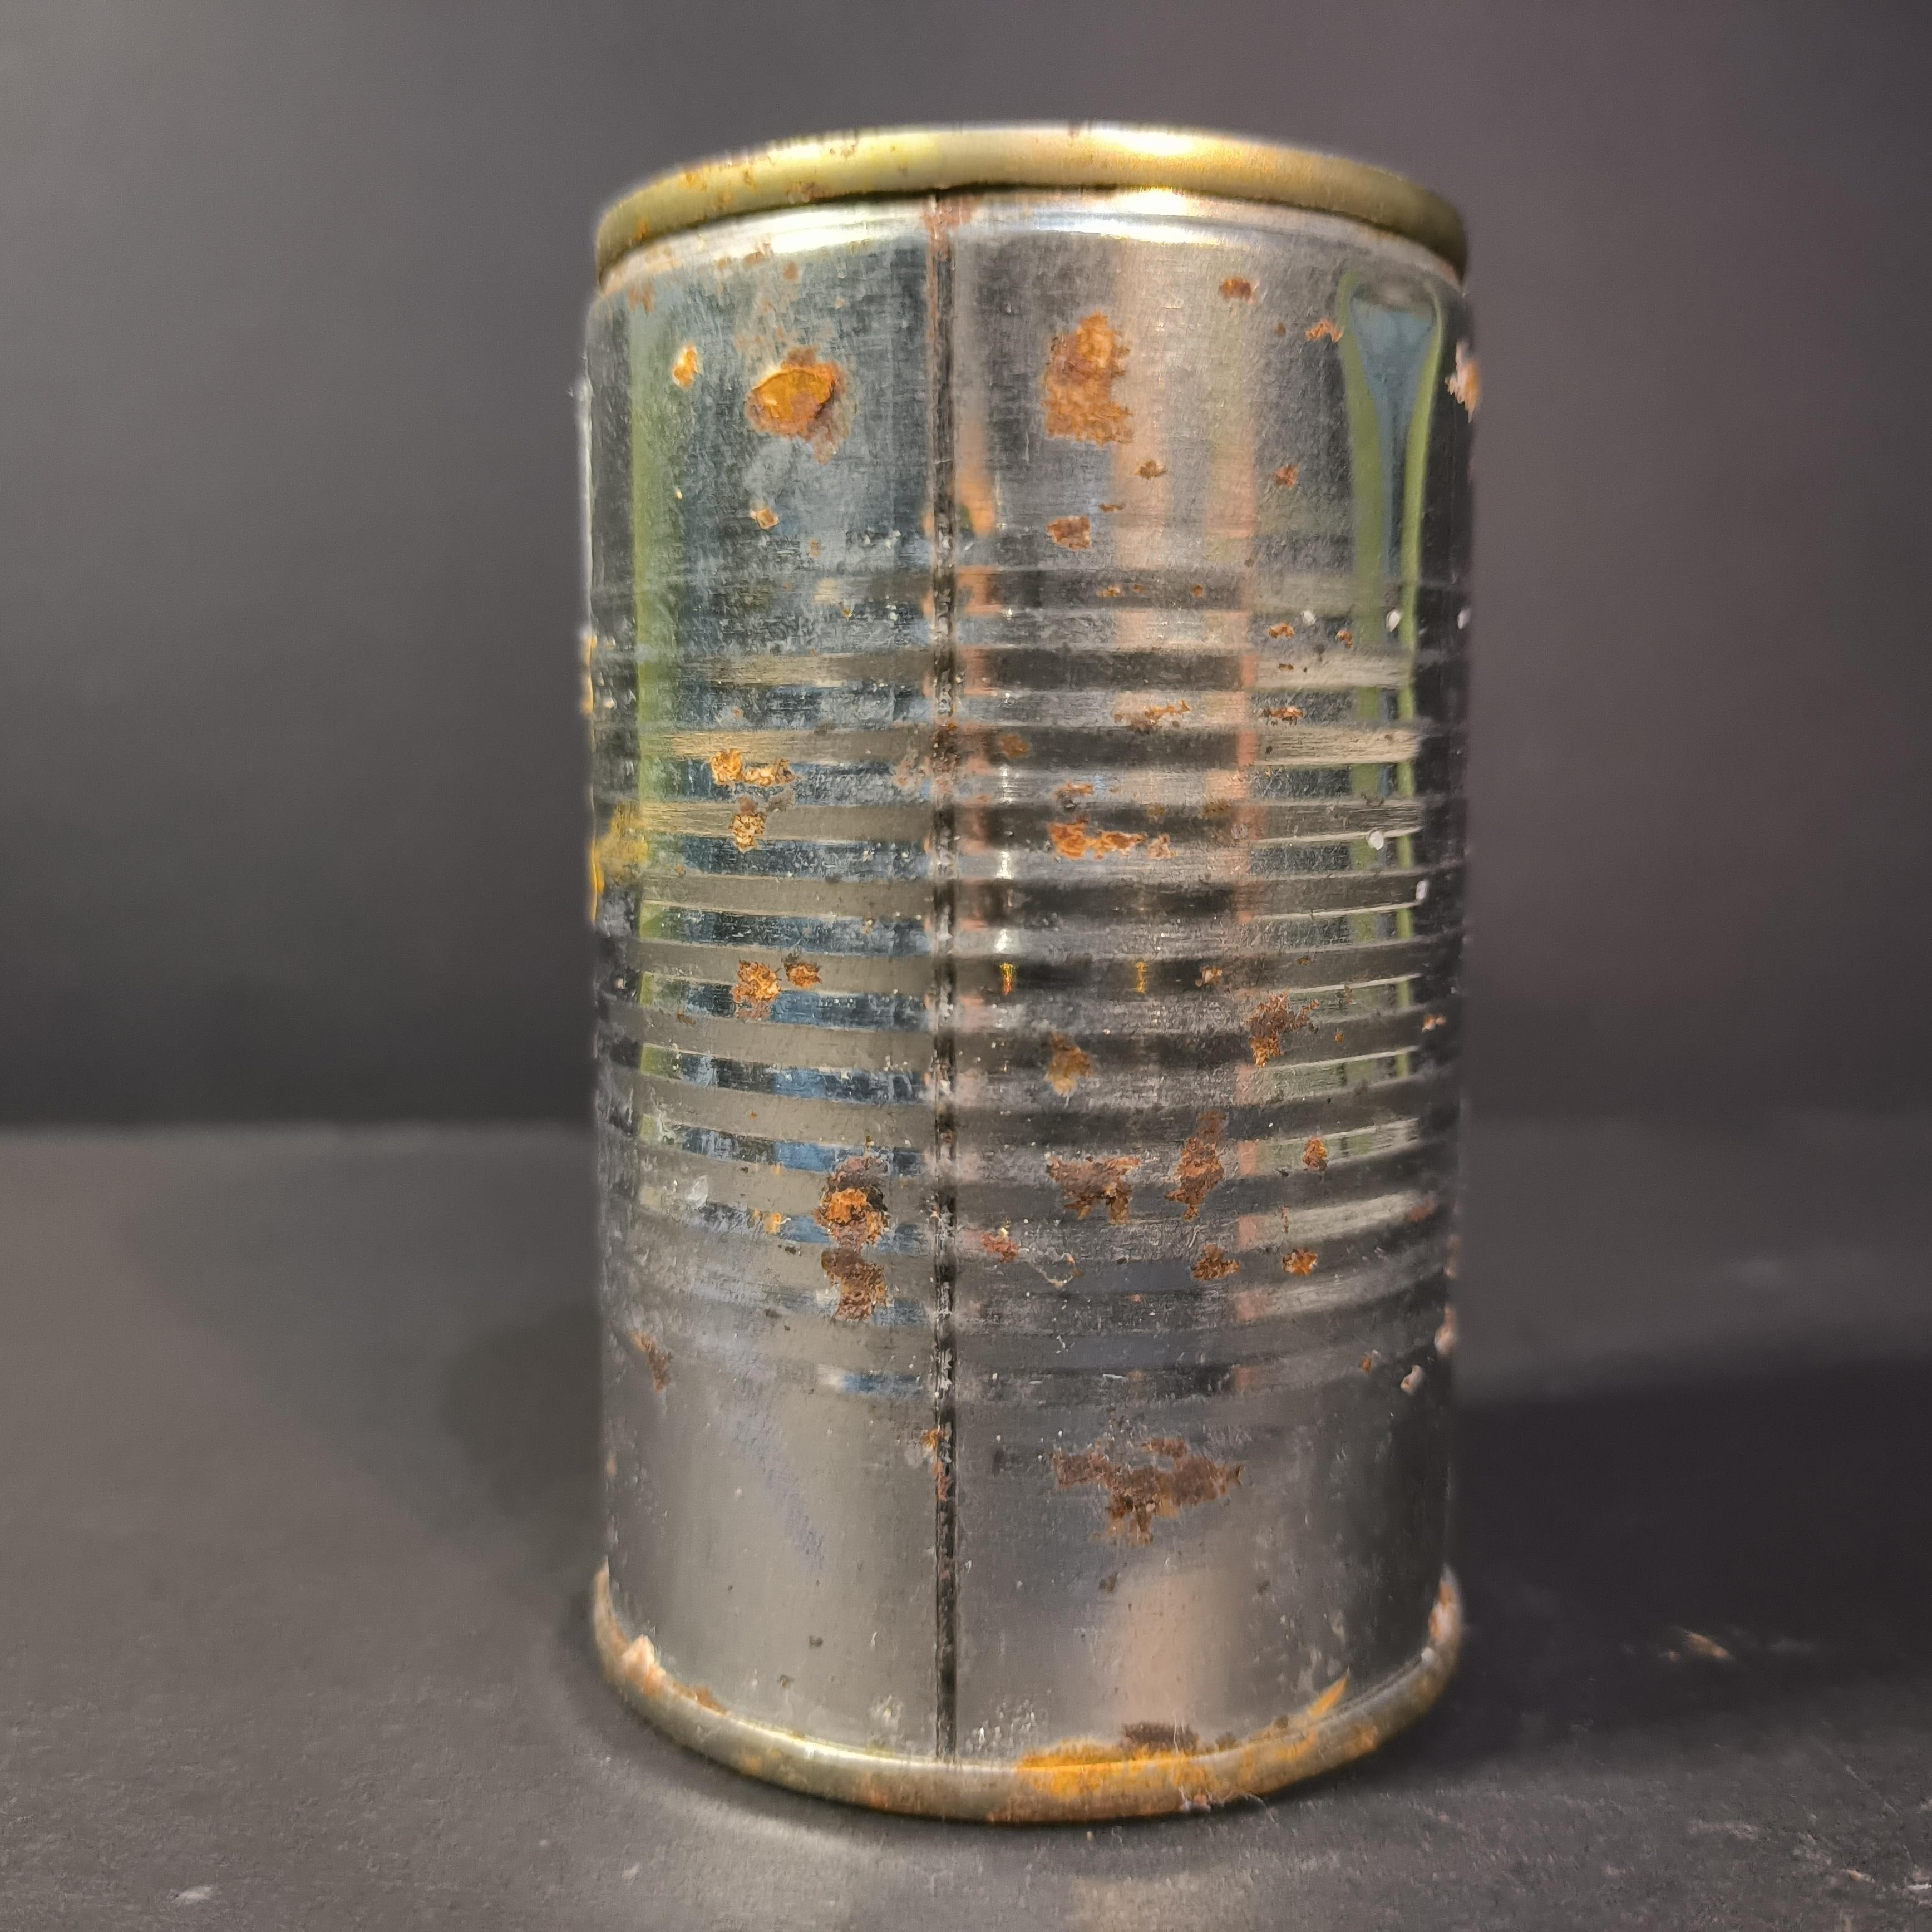Rusted: (568, 97, 1500, 1833)
